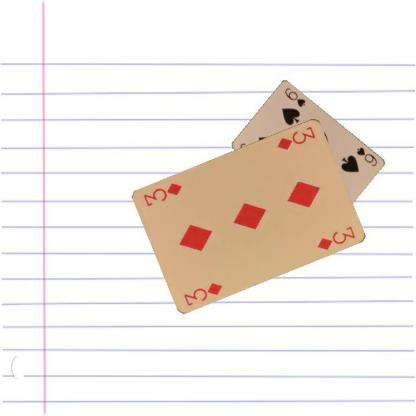3d: (274, 123, 316, 151), (182, 280, 224, 307)
6s: (354, 144, 379, 168)
